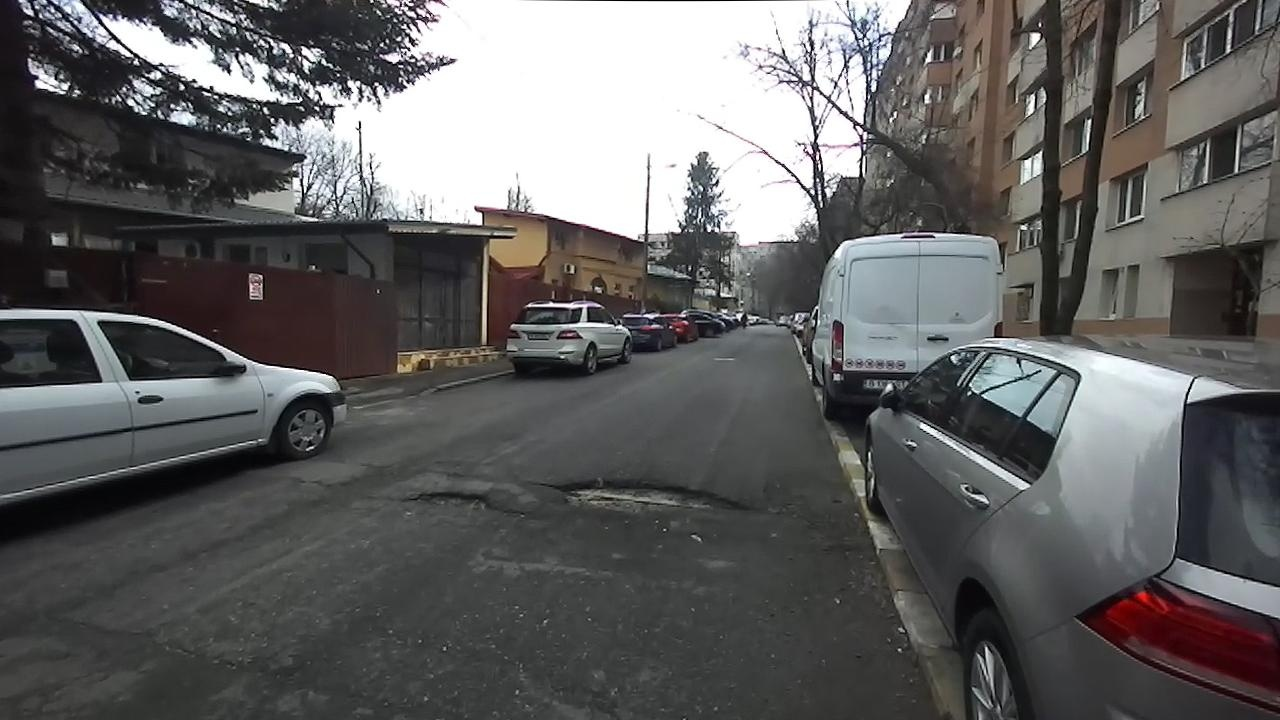pothole: (531, 472, 761, 521), (400, 487, 527, 518)
